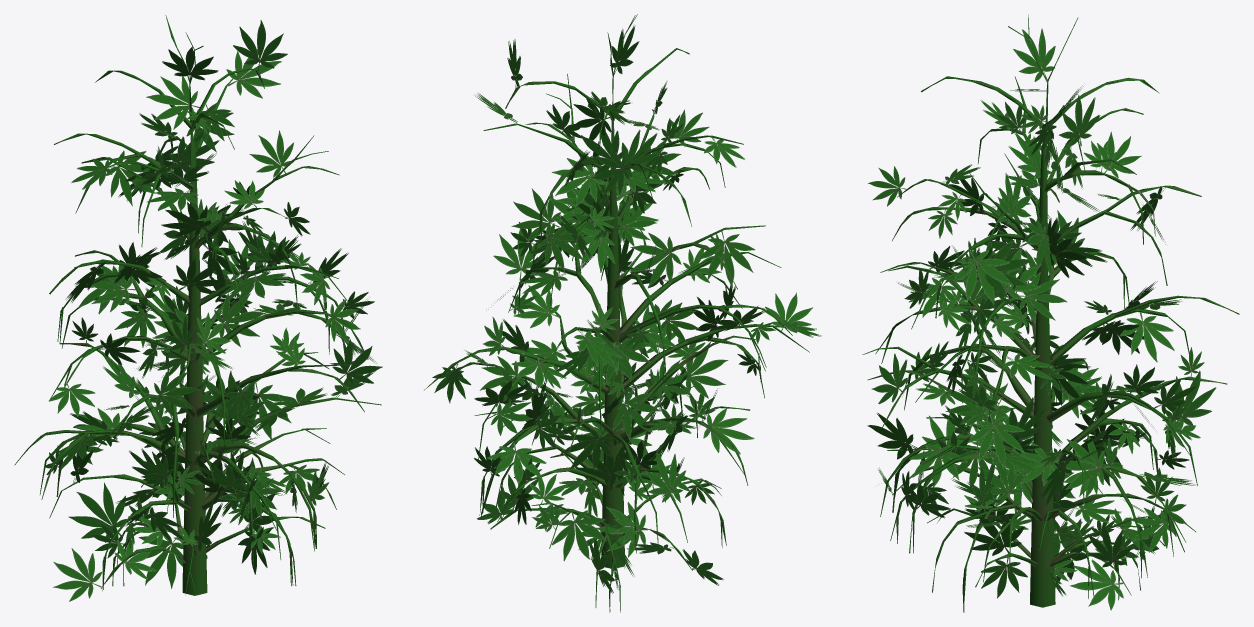
File: HempTree.fbx
3 views of the same model, side by side, from view 1: azimuth 30°, elevation 25°; view 2: azimuth 150°, elevation 25°; view 3: azimuth 270°, elevation 25° (orthographic). The views are drawn at different scales.
Visible parts, largest first — view 1: HampTree.004, HampTree_low.001; view 2: HampTree.004, HampTree_low.001; view 3: HampTree.004, HampTree_low.001.
Part boxes in pixels (left/top/right/bottom): HampTree.004: left=45, top=20, right=382, bottom=601; HampTree_low.001: left=14, top=15, right=381, bottom=595; HampTree.004: left=432, top=25, right=821, bottom=593; HampTree_low.001: left=424, top=14, right=816, bottom=612; HampTree.004: left=867, top=28, right=1216, bottom=610; HampTree_low.001: left=862, top=14, right=1239, bottom=612.
Size of the model in its own units: 95.39 by 153 by 88.2.
